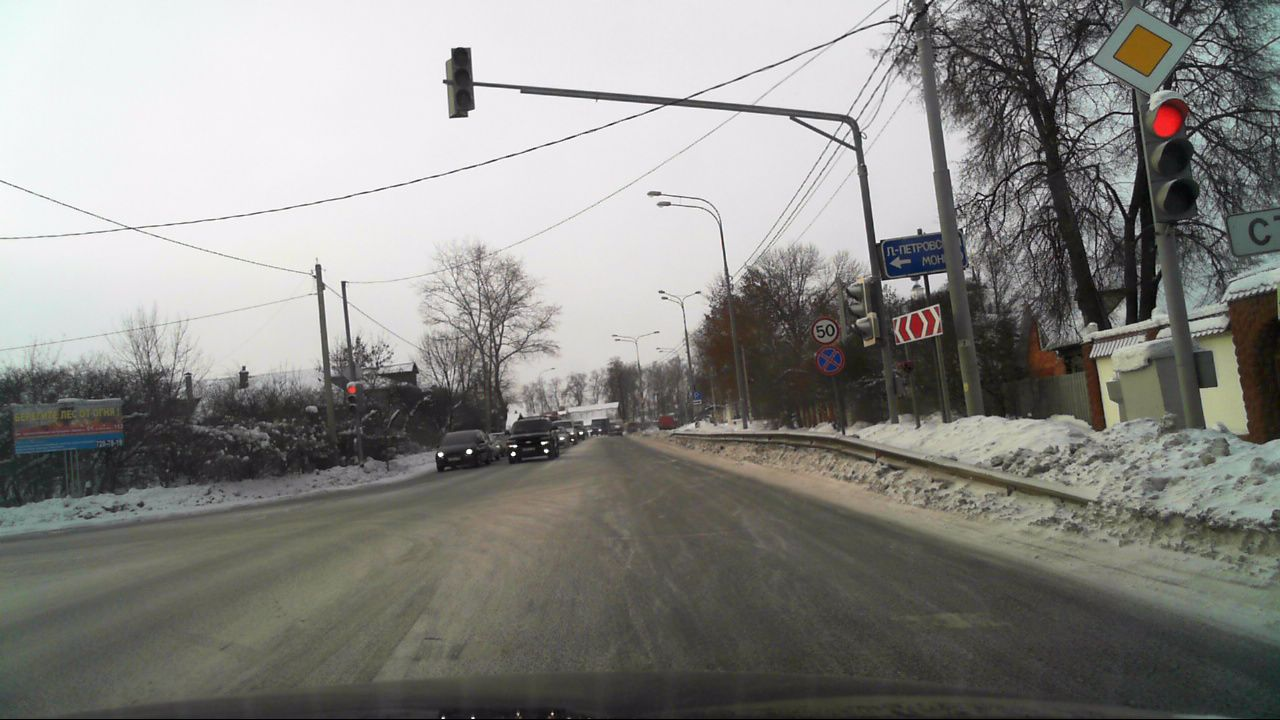No Parking: (815, 345, 843, 373)
